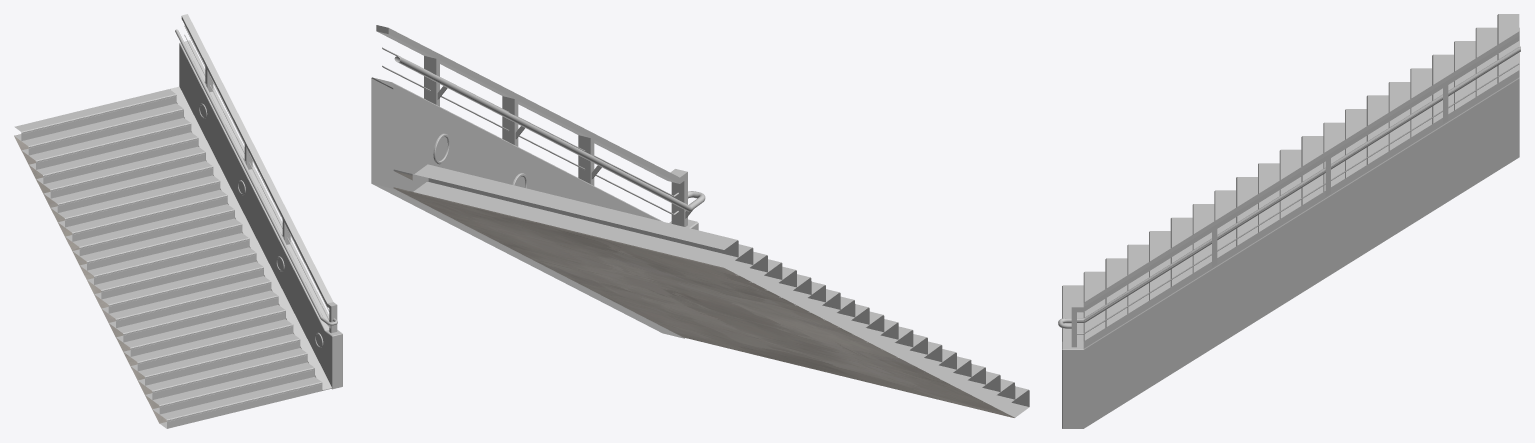
The model's file is MESH_StairsR_First.fbx.
3 views of the same model, side by side, from view 1: azimuth 30°, elevation 25°; view 2: azimuth 150°, elevation 25°; view 3: azimuth 270°, elevation 25° (orthographic). The views are drawn at different scales.
Parts seen in each view (by area): view 1: StairsR, ConcreteBaseR, HandleR, LampsR; view 2: StairsR, ConcreteBaseR, HandleR; view 3: ConcreteBaseR, StairsR, HandleR.
Part boxes in pixels (box(x1,y1,x2,y2)): StairsR: box(14, 86, 332, 428); ConcreteBaseR: box(179, 40, 342, 389); HandleR: box(175, 14, 337, 332); LampsR: box(198, 103, 323, 347); StairsR: box(393, 164, 1029, 417); ConcreteBaseR: box(371, 77, 698, 338); HandleR: box(376, 25, 705, 226); ConcreteBaseR: box(1062, 70, 1519, 428); StairsR: box(1062, 14, 1519, 341); HandleR: box(1058, 31, 1520, 347).
Size of the model in its own units: 400 by 567 by 607.
